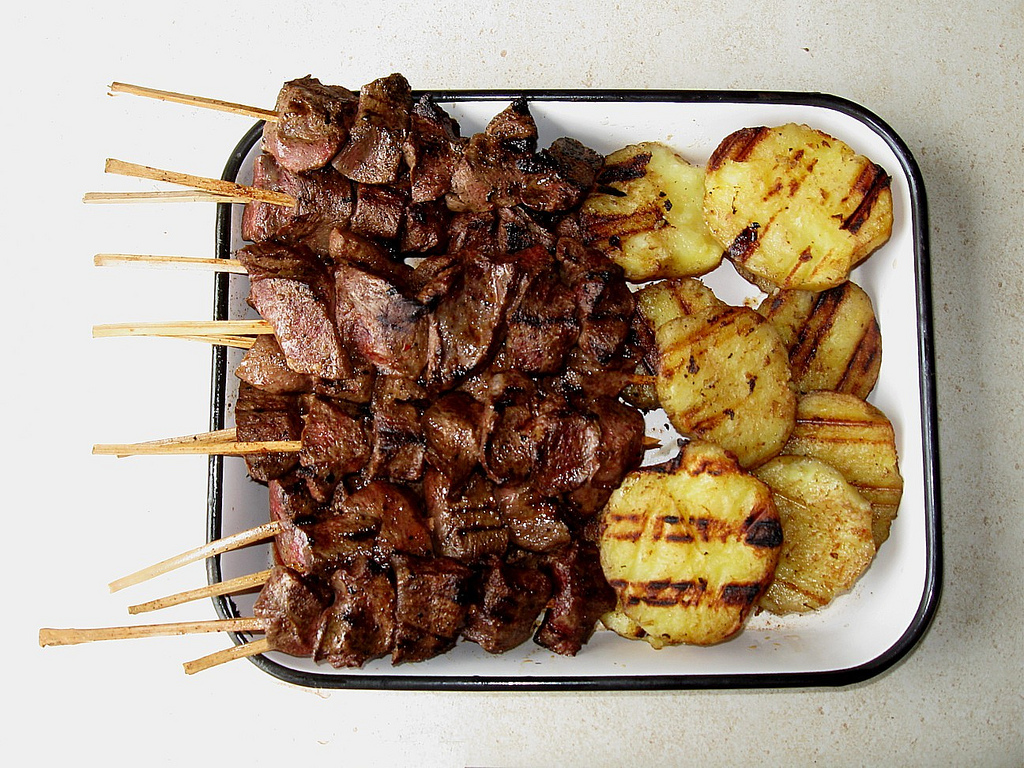boiled potatoes: (596, 125, 895, 647)
